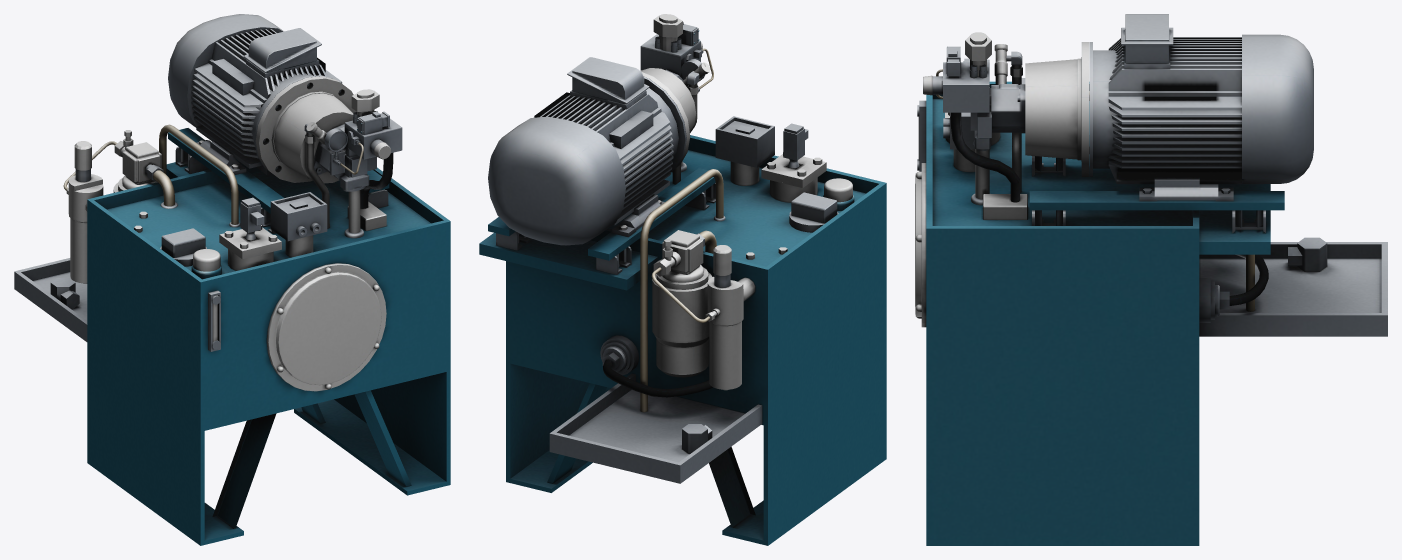
3 views of the same model, side by side, from view 1: azimuth 30°, elevation 25°; view 2: azimuth 150°, elevation 25°; view 3: azimuth 270°, elevation 25° (orthographic). The views are drawn at different scales.
Visible parts, largest first — view 1: Tank, Moter_front, ha, polySurface324, polySurface325, oil_Receive, Fill, terminal_box, level_switch, pump, Oil_PUMP1, pipe (+2 smaller); view 2: Tank, Moter_front, oil_Receive, polySurface324, Moter_Back, Fill, polySurface325, terminal_box, level_switch, pump, damper, ha (+2 smaller); view 3: Tank, Moter_front, oil_Receive, ha, polySurface325, polySurface324, Oil_PUMP1, pipe, damper, terminal_box.
Part boxes in pixels (x1,y1,x2,y2): Tank: (87, 159, 450, 545); Moter_front: (168, 14, 389, 213); ha: (255, 76, 356, 183); polySurface324: (63, 124, 386, 279); polySurface325: (340, 89, 402, 208); oil_Receive: (14, 258, 87, 341); Fill: (68, 141, 103, 283); terminal_box: (270, 192, 327, 241); level_switch: (219, 197, 281, 259); pump: (114, 130, 174, 206); Oil_PUMP1: (304, 122, 347, 228); pipe: (330, 146, 376, 238); Tank: (479, 135, 886, 545); Moter_front: (488, 57, 715, 260); oil_Receive: (549, 373, 762, 483); polySurface324: (600, 161, 854, 412); Moter_Back: (652, 265, 712, 377); Fill: (707, 245, 743, 390); polySurface325: (640, 14, 713, 88); terminal_box: (715, 116, 774, 167); level_switch: (761, 123, 826, 187); pump: (653, 230, 716, 276); damper: (496, 183, 715, 274); ha: (640, 68, 696, 166); Tank: (915, 81, 1270, 545); Moter_front: (1029, 14, 1313, 210); oil_Receive: (1199, 237, 1387, 336); ha: (1017, 42, 1089, 176); polySurface325: (923, 32, 1019, 202); polySurface324: (945, 78, 1268, 322); Oil_PUMP1: (987, 44, 1025, 193); pipe: (970, 88, 991, 205); damper: (1032, 156, 1265, 233); terminal_box: (943, 112, 990, 149).
Size of the model in its own units: 0.00617 by 0.00933 by 0.00839.
